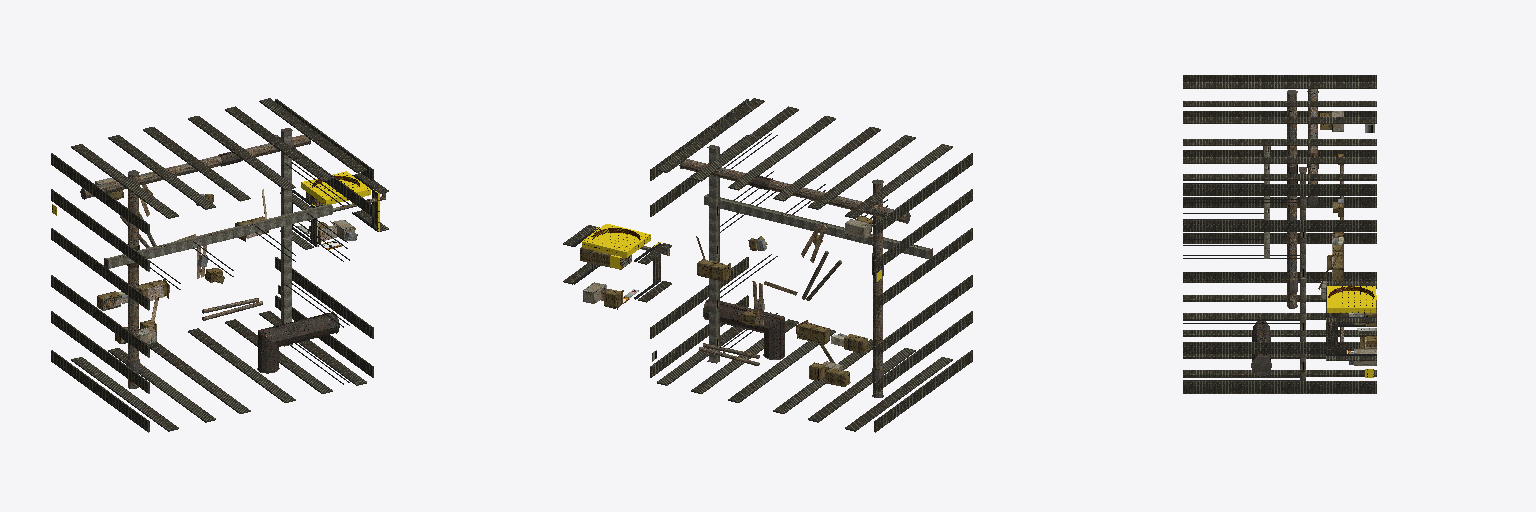
3 renders of one model, left to right at view 1: azimuth 30°, elevation 25°; view 2: azimuth 150°, elevation 25°; view 3: azimuth 270°, elevation 25°, orthographic.
Visible parts, largest first — view 1: 11723, 10444, 10449, 10446, 10448, 10445, 10447, 12649, 10412, 10404, 10407, 10413 (+14 smaller); view 2: 10444, 10449, 10446, 10448, 10445, 10447, 10412, 10404, 10407, 10413, 10411, 10427 (+14 smaller); view 3: 12335, 12336, 12337, 12334, 10445, 10444, 10446, 10404, 10407, 10408, 10411, 10413 (+10 smaller).
Part boxes in pixels (left/top/right/bottom): 11723: left=275, top=313, right=338, bottom=346; 10444: left=51, top=311, right=149, bottom=393; 10449: left=51, top=153, right=149, bottom=235; 10446: left=51, top=275, right=149, bottom=357; 10448: left=51, top=189, right=149, bottom=271; 10445: left=51, top=350, right=149, bottom=432; 10447: left=51, top=228, right=149, bottom=310; 12649: left=197, top=206, right=332, bottom=246; 10412: left=108, top=135, right=215, bottom=209; 10404: left=259, top=98, right=366, bottom=172; 10407: left=225, top=106, right=332, bottom=181; 10413: left=71, top=144, right=178, bottom=218; 10444: left=874, top=311, right=972, bottom=393; 10449: left=874, top=153, right=972, bottom=235; 10446: left=874, top=275, right=972, bottom=357; 10448: left=874, top=189, right=972, bottom=271; 10445: left=874, top=350, right=972, bottom=432; 10447: left=874, top=228, right=972, bottom=310; 10412: left=808, top=135, right=915, bottom=209; 10404: left=657, top=98, right=764, bottom=172; 10407: left=691, top=106, right=798, bottom=181; 10413: left=845, top=144, right=952, bottom=218; 10411: left=773, top=127, right=880, bottom=201; 10427: left=845, top=357, right=952, bottom=431; 12335: left=1183, top=381, right=1376, bottom=392; 12336: left=1183, top=184, right=1376, bottom=195; 12337: left=1183, top=220, right=1376, bottom=231; 12334: left=1183, top=342, right=1359, bottom=353; 10445: left=1183, top=272, right=1376, bottom=282; 10444: left=1183, top=233, right=1376, bottom=243; 10446: left=1183, top=197, right=1376, bottom=207; 10404: left=1183, top=174, right=1376, bottom=180; 10407: left=1183, top=157, right=1376, bottom=163; 10408: left=1183, top=139, right=1376, bottom=145; 10411: left=1183, top=117, right=1376, bottom=123; 10413: left=1183, top=82, right=1376, bottom=88.
Size of the model in its own units: 944 by 618 by 509.
Materials: 25 (25 with a texture image).